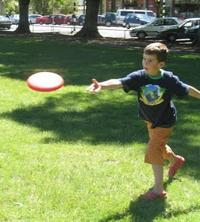person: (86, 43, 200, 201)
